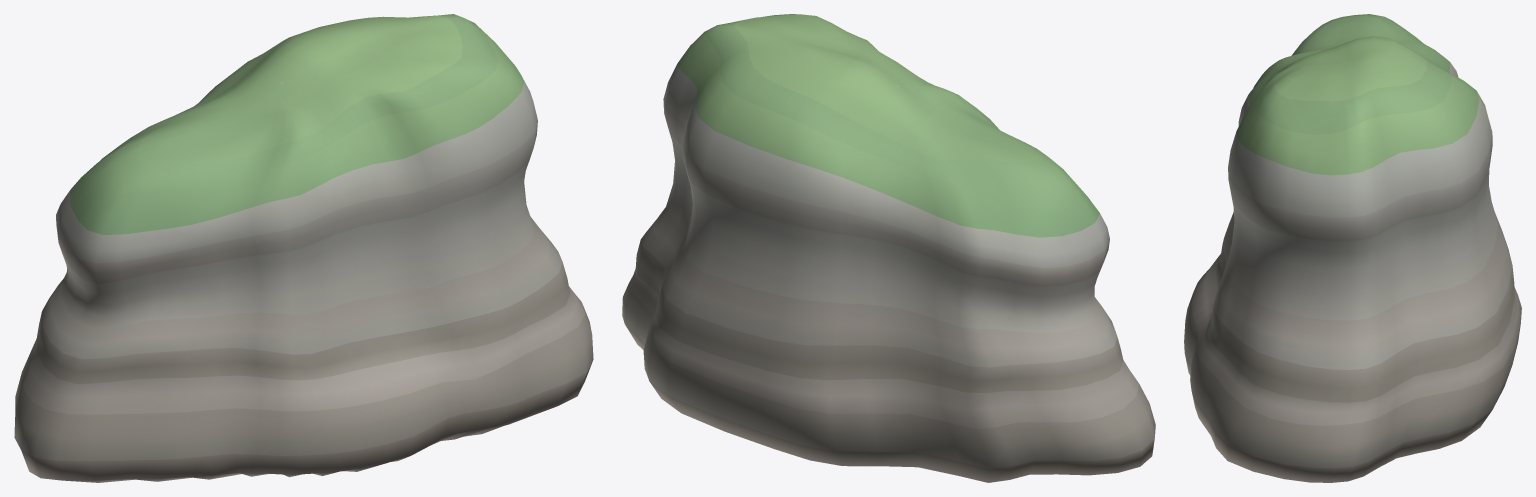
File: GrasslandRocks.fbx
3 views of the same model, side by side, from view 1: azimuth 30°, elevation 25°; view 2: azimuth 150°, elevation 25°; view 3: azimuth 270°, elevation 25° (orthographic). The views are drawn at different scales.
Parts seen in each view (by area): view 1: rocks_09; view 2: rocks_09; view 3: rocks_09.
Boxes of the visible parts, x1,y1,x2,y2 form: rocks_09: (14, 14, 593, 482); rocks_09: (622, 14, 1155, 482); rocks_09: (1184, 14, 1521, 482).
Size of the model in its own units: 26.08 by 16.99 by 14.67.
Materials: 1 (1 with a texture image).
